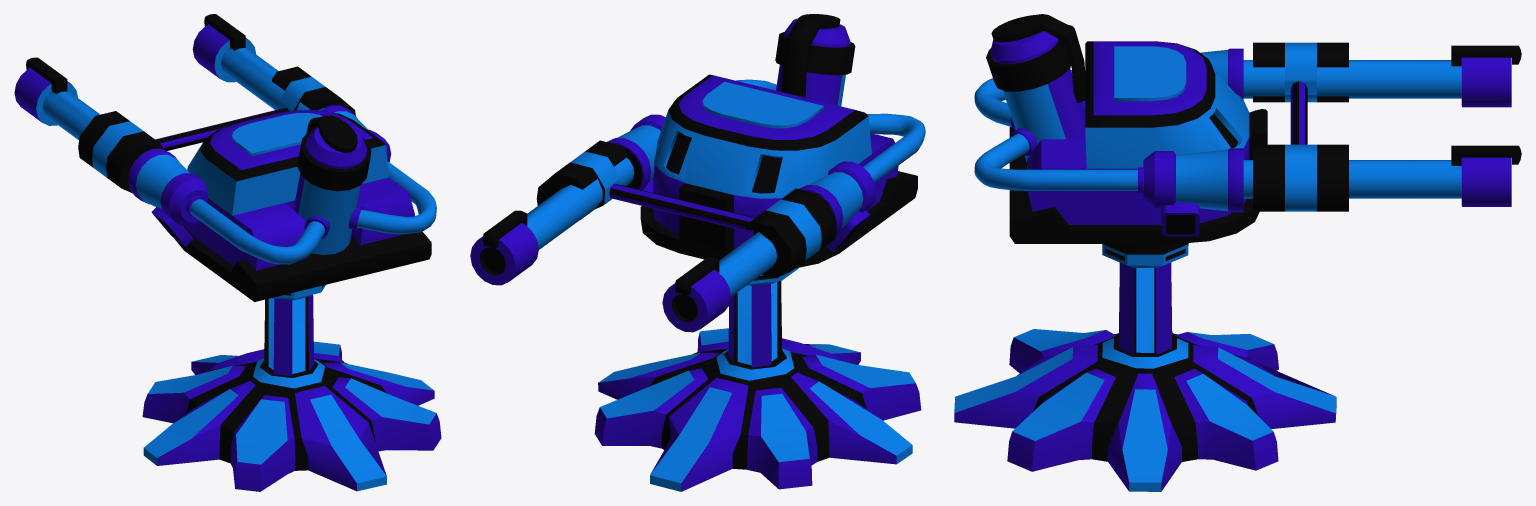
File: Turret_3.fbx
3 views of the same model, side by side, from view 1: azimuth 30°, elevation 25°; view 2: azimuth 150°, elevation 25°; view 3: azimuth 270°, elevation 25° (orthographic). The views are drawn at different scales.
Parts seen in each view (by area): view 1: Head, Pedestal, Barrel_Right, Barrel_Left, BarrelHolder_Left, BarrelHolder_Right; view 2: Head, Pedestal, Barrel_Right, Barrel_Left, BarrelHolder_Left, BarrelHolder_Right; view 3: Head, Pedestal, Barrel_Left, Barrel_Right, BarrelHolder_Right, BarrelHolder_Left.
Part boxes in pixels (box(x1,y1,x2,y2)): Head: box(128, 105, 436, 301); Pedestal: box(142, 285, 441, 491); Barrel_Right: box(192, 14, 323, 110); Barrel_Left: box(14, 57, 99, 139); BarrelHolder_Left: box(78, 111, 162, 193); BarrelHolder_Right: box(272, 66, 355, 115); Head: box(607, 14, 925, 268); Pedestal: box(594, 268, 921, 491); Barrel_Right: box(470, 157, 634, 285); Barrel_Left: box(662, 232, 776, 332); BarrelHolder_Left: box(745, 188, 836, 277); BarrelHolder_Right: box(536, 140, 627, 219); Head: box(974, 14, 1307, 243); Pedestal: box(954, 243, 1336, 491); Barrel_Left: box(1243, 45, 1521, 107); Barrel_Right: box(1243, 145, 1521, 206); BarrelHolder_Right: box(1253, 144, 1348, 211); BarrelHolder_Left: box(1253, 42, 1348, 102).
Bounding box in the file's own units: 354 × 546 × 418.
